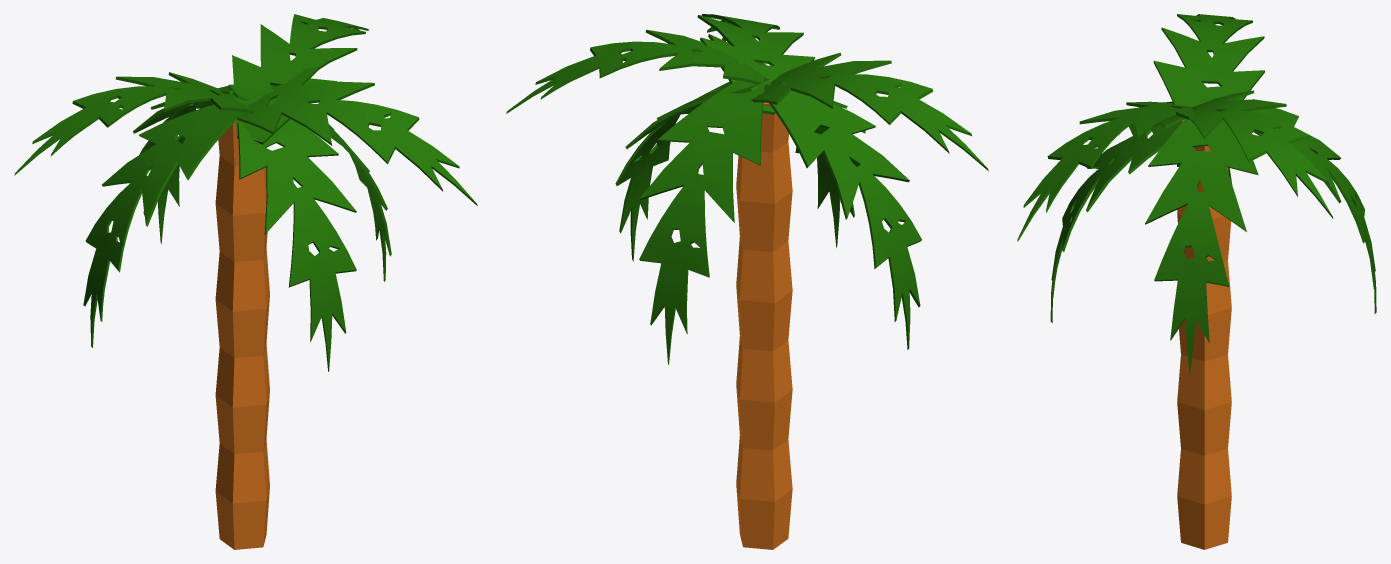
The model's file is tree.fbx.
3 views of the same model, side by side, from view 1: azimuth 30°, elevation 25°; view 2: azimuth 150°, elevation 25°; view 3: azimuth 270°, elevation 25° (orthographic). The views are drawn at different scales.
Parts seen in each view (by area): view 1: Gengon001; view 2: Gengon001; view 3: Gengon001.
Boxes of the visible parts, x1,y1,x2,y2 form: Gengon001: (14, 14, 477, 549); Gengon001: (506, 14, 988, 549); Gengon001: (1017, 14, 1376, 549).
Size of the model in its own units: 583 by 647 by 455.
